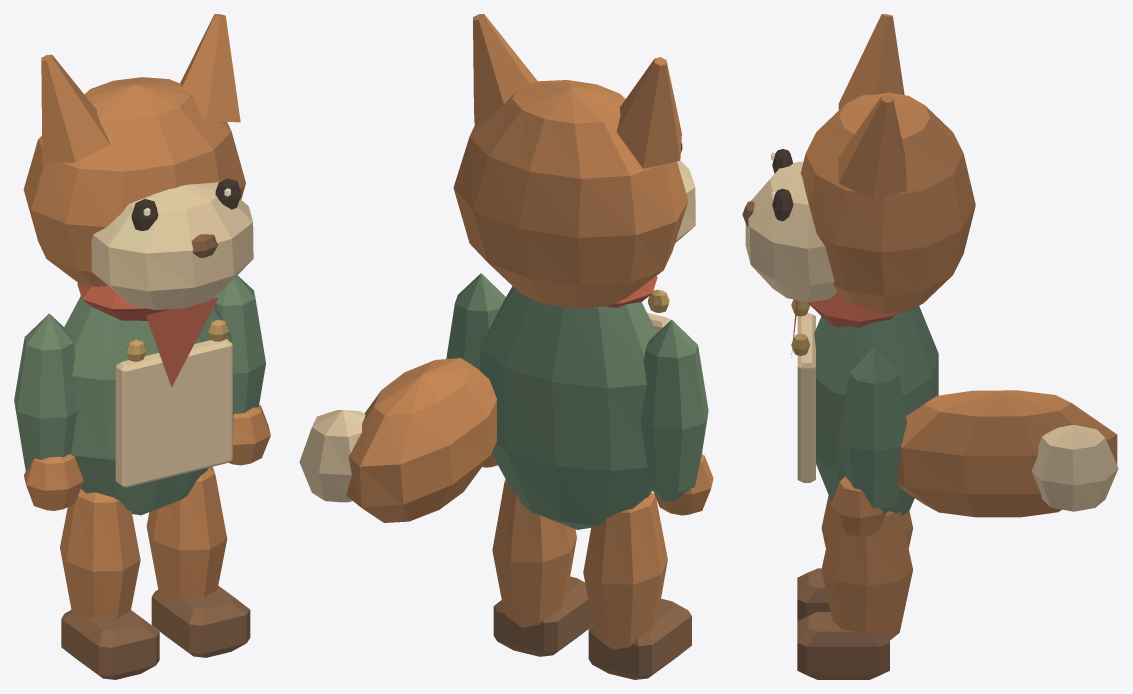
Rendered from npc_miro.glb.
3 views of the same model, side by side, from view 1: azimuth 30°, elevation 25°; view 2: azimuth 150°, elevation 25°; view 3: azimuth 270°, elevation 25° (orthographic). The views are drawn at different scales.
Parts seen in each view (by area): view 1: npc_miro, npc_miro_leg_l, npc_miro_leg_r, npc_miro_arm_l, npc_miro_arm_r; view 2: npc_miro, npc_miro_leg_l, npc_miro_leg_r, npc_miro_arm_l, npc_miro_arm_r; view 3: npc_miro, npc_miro_leg_r, npc_miro_arm_r, npc_miro_leg_l.
Part boxes in pixels (left/top/right/bottom): npc_miro: left=23, top=14, right=253, bottom=515; npc_miro_leg_l: left=60, top=489, right=159, bottom=679; npc_miro_leg_r: left=146, top=466, right=250, bottom=657; npc_miro_arm_l: left=14, top=313, right=83, bottom=510; npc_miro_arm_r: left=213, top=275, right=270, bottom=465; npc_miro: left=299, top=14, right=695, bottom=529; npc_miro_leg_l: left=583, top=492, right=691, bottom=679; npc_miro_leg_r: left=492, top=479, right=593, bottom=656; npc_miro_arm_l: left=640, top=319, right=713, bottom=515; npc_miro_arm_r: left=446, top=273, right=505, bottom=467; npc_miro: left=742, top=14, right=1118, bottom=517; npc_miro_leg_r: left=797, top=511, right=912, bottom=679; npc_miro_arm_r: left=831, top=347, right=906, bottom=536; npc_miro_leg_l: left=797, top=495, right=912, bottom=620.
Size of the model in its own units: 0.737 by 1.51 by 0.87.
